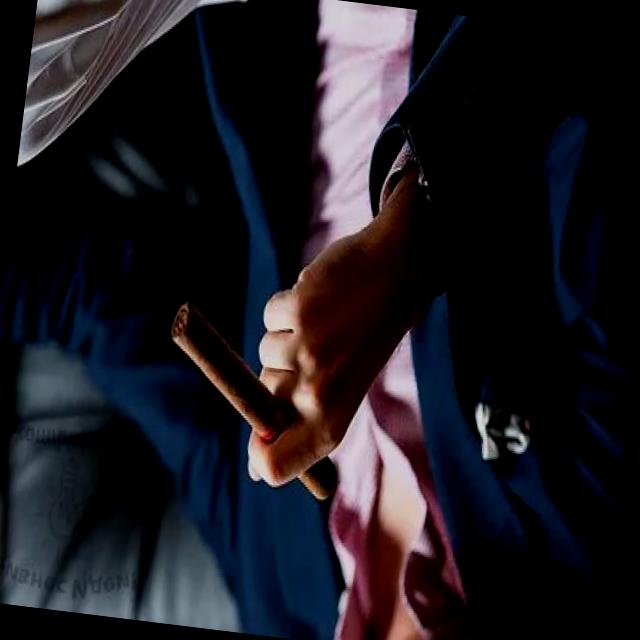smoke: (148, 288, 363, 507)
